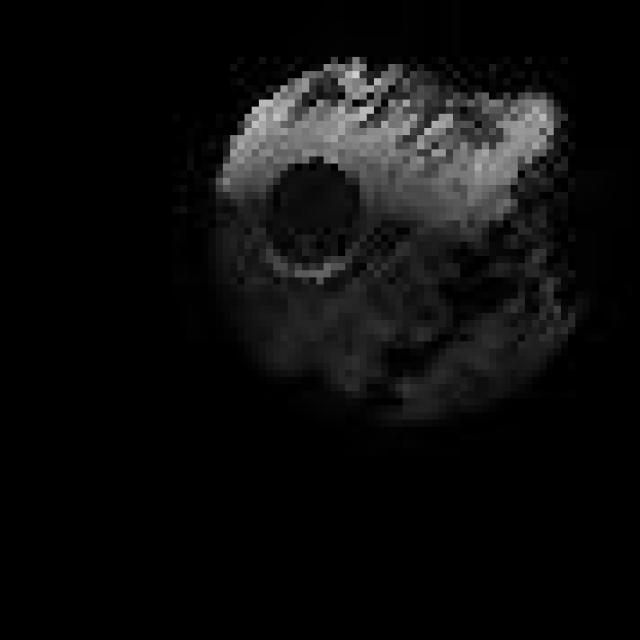Death Star: (194, 42, 590, 426)
